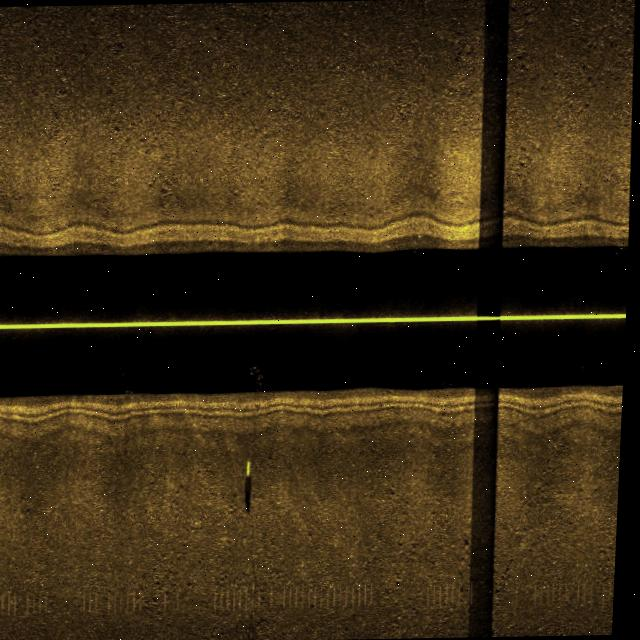mine: (243, 450, 268, 510)
